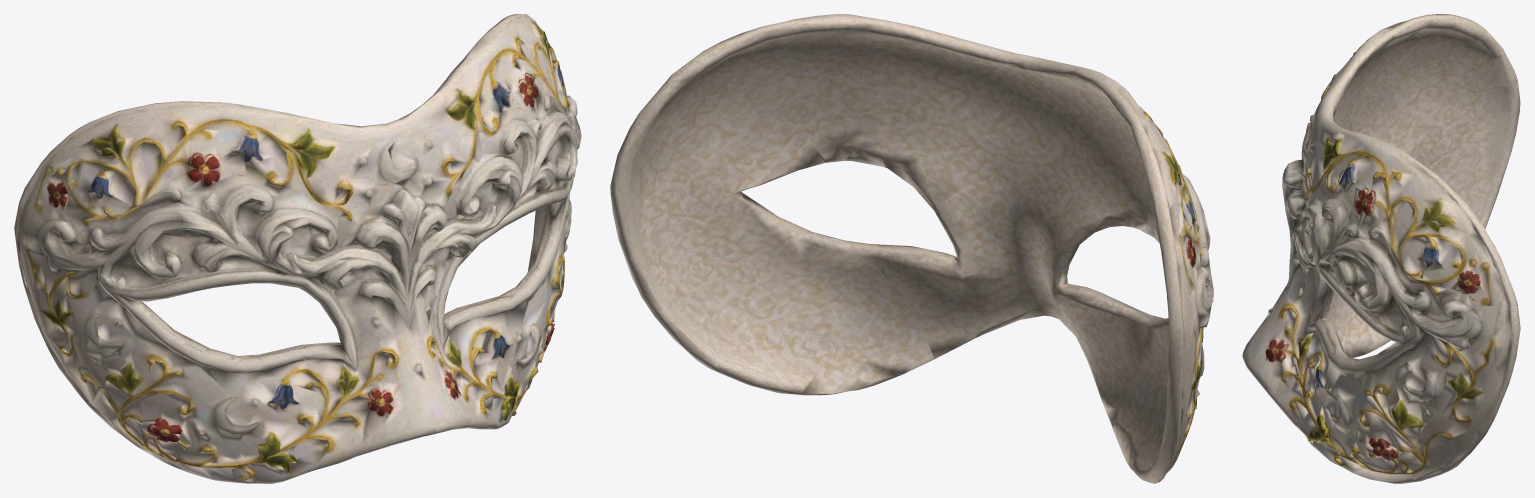
The picture shows the model from 3 angles, left to right: view 1: azimuth 30°, elevation 25°; view 2: azimuth 150°, elevation 25°; view 3: azimuth 270°, elevation 25°; orthographic projection. The views are drawn at different scales.
Bounding box in the file's own units: 1.9 × 1.24 × 0.9524.
Materials: 1 (1 with a texture image).
